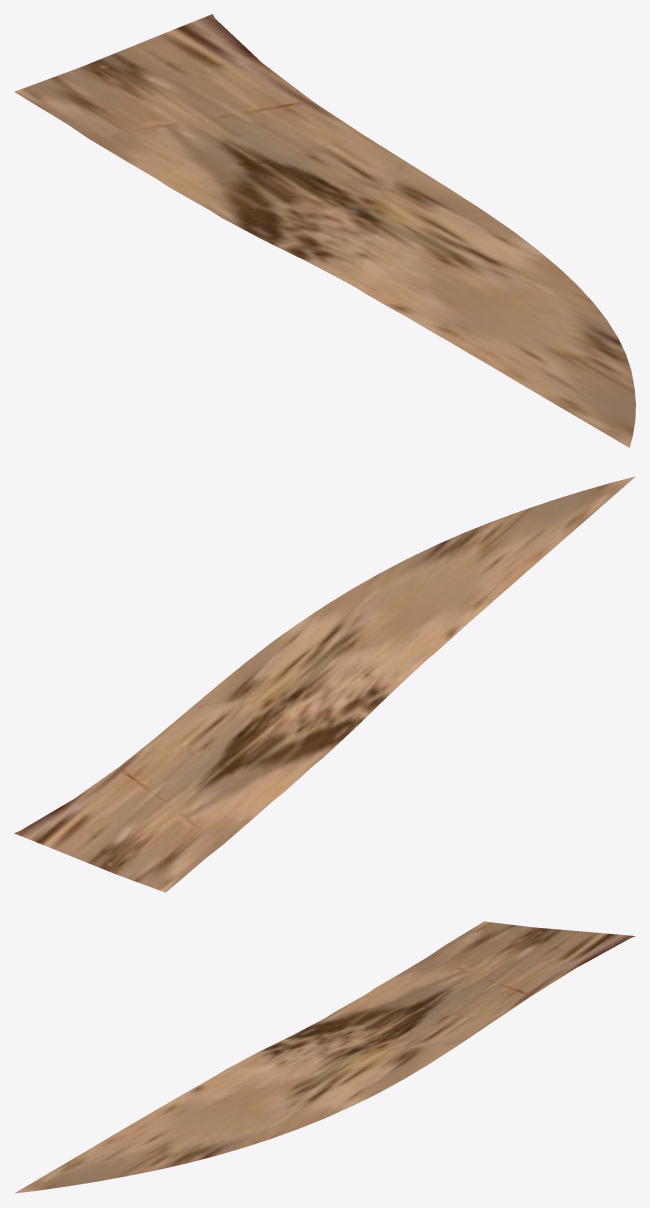
3 views of the same model, one above another, from view 1: azimuth 30°, elevation 25°; view 2: azimuth 150°, elevation 25°; view 3: azimuth 330°, elevation 25° (orthographic). The views are drawn at different scales.
Bounding box in the file's own units: 0.7427 × 0.3376 × 3.99.
Materials: 1 (1 with a texture image).
